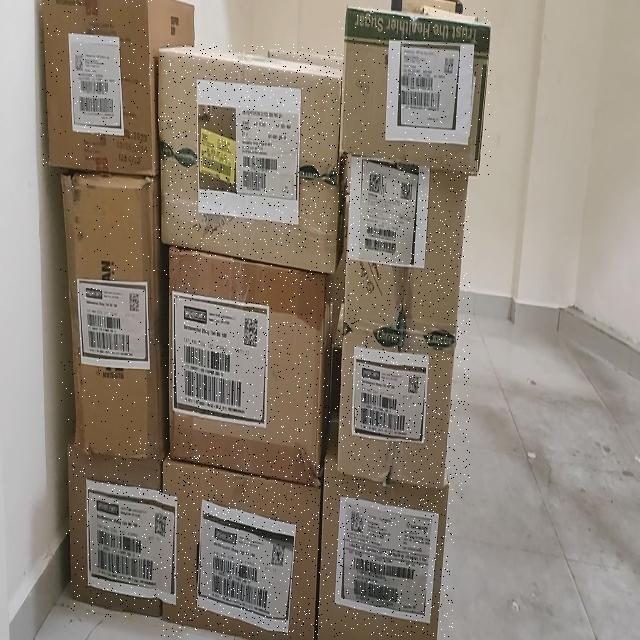BoxFace: (335, 152, 470, 498), (157, 44, 343, 274), (166, 244, 332, 482), (59, 171, 166, 461), (161, 452, 321, 638), (339, 5, 491, 175), (316, 456, 454, 638), (40, 0, 155, 176), (66, 441, 178, 617)
